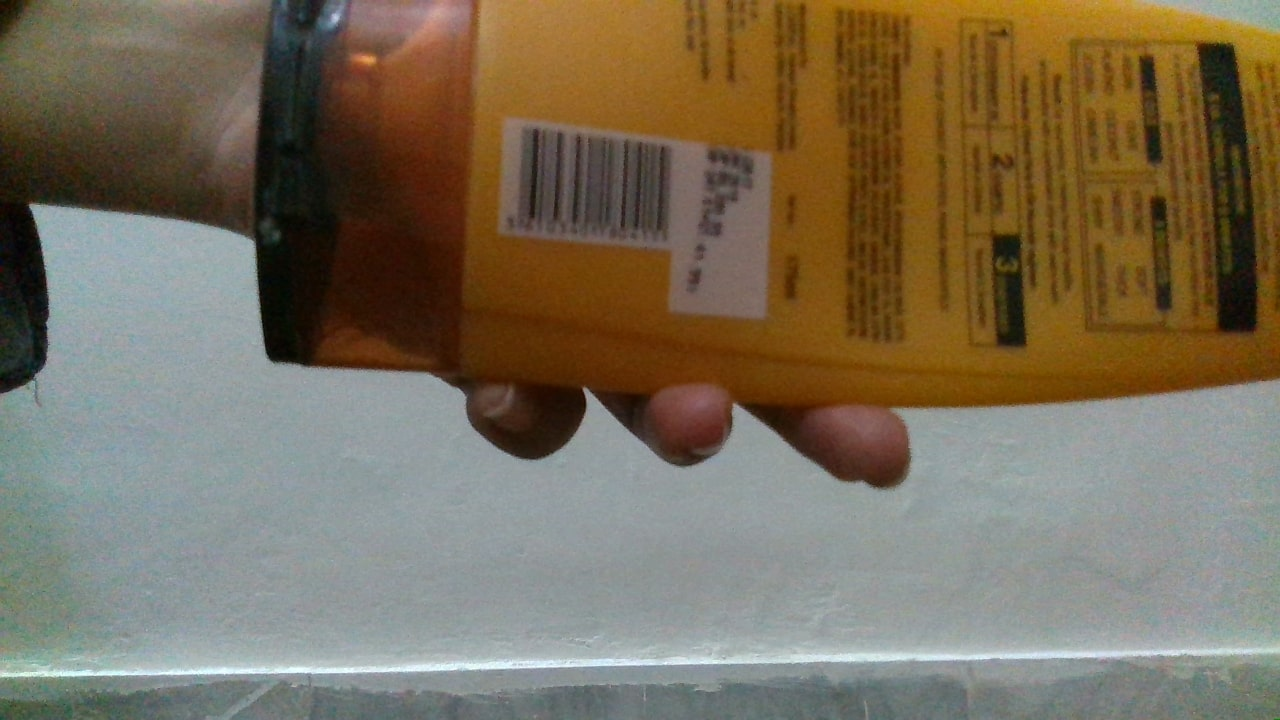Barcode: (514, 125, 677, 246)
